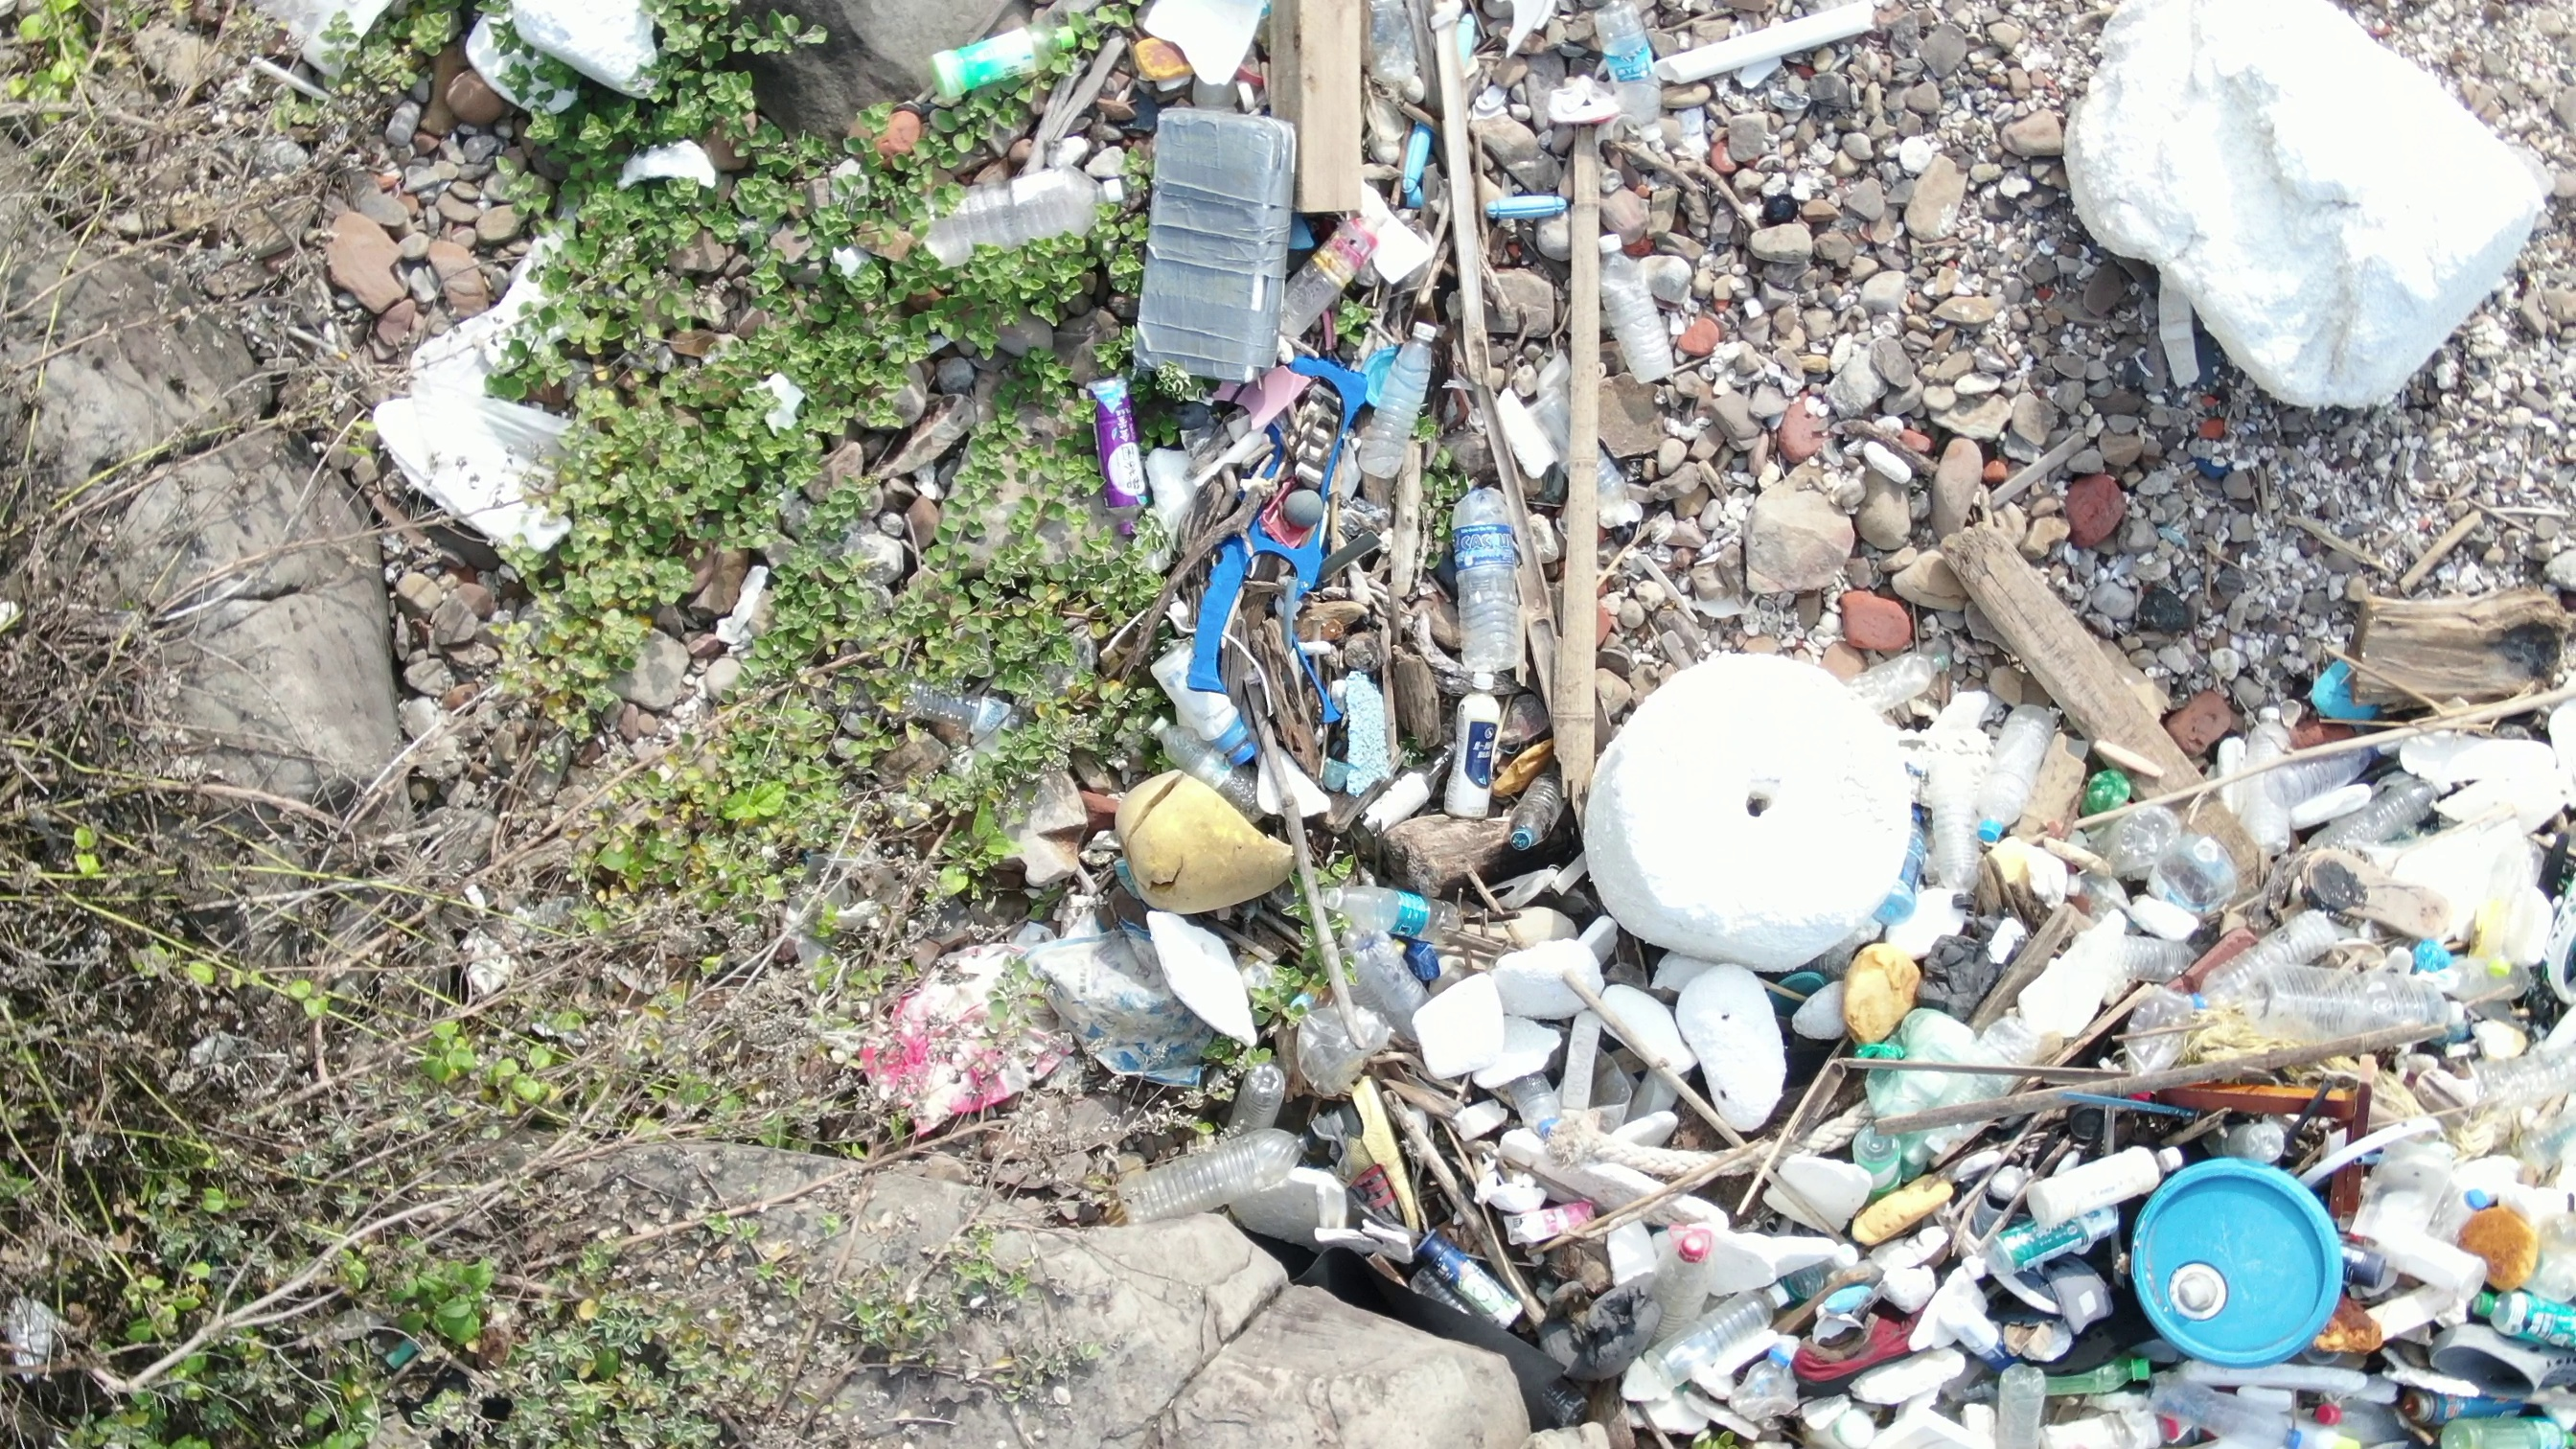bottle: (908, 170, 1134, 265), (1109, 1123, 1322, 1223), (1350, 311, 1444, 488), (1583, 223, 1679, 387), (1146, 706, 1279, 823), (2015, 1139, 2197, 1224), (1964, 706, 2065, 855), (1451, 465, 1520, 674), (924, 18, 1083, 104), (1663, 1277, 1798, 1376), (1578, 4, 1665, 147), (1081, 373, 1154, 540), (2327, 768, 2466, 853), (1930, 717, 1987, 920), (1444, 660, 1511, 830), (1983, 1203, 2130, 1277), (1323, 881, 1483, 948), (2153, 1382, 2293, 1449), (2243, 706, 2304, 860), (1647, 1233, 1716, 1355), (2003, 1348, 2158, 1398), (2486, 1286, 2576, 1350), (1992, 1366, 2059, 1449), (1506, 766, 1568, 855), (2434, 1407, 2558, 1449), (2312, 1399, 2410, 1444), (1845, 1125, 1904, 1196), (2079, 764, 2137, 819)
garbage: (844, 644, 2530, 1449), (878, 9, 1928, 957), (375, 120, 732, 571), (223, 2, 732, 212), (2132, 257, 2222, 407)
